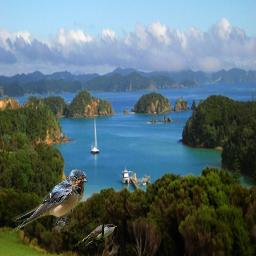Cuckoo: (72, 223, 117, 247)
Swallow: (10, 169, 88, 235)
